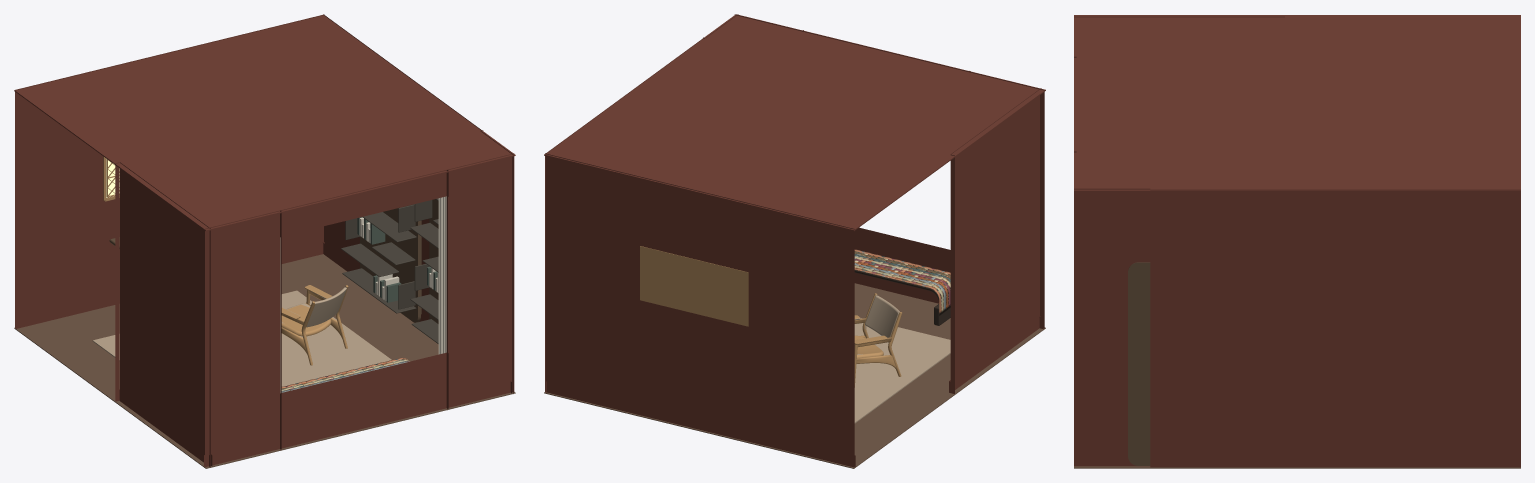
The model's file is formal-2.glb.
3 views of the same model, side by side, from view 1: azimuth 30°, elevation 25°; view 2: azimuth 150°, elevation 25°; view 3: azimuth 270°, elevation 25° (orthographic). The views are drawn at different scales.
Visible parts, largest first — view 1: DESIGN | formal removable wall finish, DESIGN | formal ceiling finish, DESIGN | formal floor finish, DESIGN | Required Blabla bookcase 2, DESIGN | Formal ground, DESIGN | Listening chair two, DESIGN | Required Blabla bookcase 1, DESIGN | Formal soft window edge.001, DESIGN | Required Brera anniversary window bench; view 2: DESIGN | formal removable wall finish, DESIGN | formal ceiling finish, DESIGN | formal floor finish, DESIGN | Quiet artwork frame, DESIGN | Formal ground, DESIGN | Required Brera anniversary window bench, DESIGN | Listening chair one; view 3: DESIGN | formal removable wall finish, DESIGN | formal ceiling finish, DESIGN | Required Blabla bookcase 1, DESIGN | formal floor finish.
Boxes of the visible parts, left/top/right/bottom form: DESIGN | formal removable wall finish: left=15, top=14, right=514, bottom=466; DESIGN | formal ceiling finish: left=14, top=15, right=515, bottom=231; DESIGN | formal floor finish: left=14, top=254, right=515, bottom=468; DESIGN | Required Blabla bookcase 2: left=341, top=204, right=421, bottom=322; DESIGN | Formal ground: left=92, top=290, right=391, bottom=386; DESIGN | Listening chair two: left=281, top=285, right=348, bottom=365; DESIGN | Required Blabla bookcase 1: left=410, top=198, right=438, bottom=343; DESIGN | Formal soft window edge.001: left=438, top=196, right=446, bottom=354; DESIGN | Required Brera anniversary window bench: left=281, top=357, right=409, bottom=392; DESIGN | formal removable wall finish: left=545, top=14, right=1044, bottom=467; DESIGN | formal ceiling finish: left=544, top=14, right=1045, bottom=231; DESIGN | formal floor finish: left=544, top=283, right=1045, bottom=468; DESIGN | Quiet artwork frame: left=640, top=246, right=748, bottom=326; DESIGN | Formal ground: left=854, top=318, right=950, bottom=423; DESIGN | Required Brera anniversary window bench: left=854, top=249, right=950, bottom=325; DESIGN | Listening chair one: left=854, top=293, right=902, bottom=387; DESIGN | formal removable wall finish: left=1074, top=16, right=1520, bottom=467; DESIGN | formal ceiling finish: left=1074, top=15, right=1520, bottom=191; DESIGN | Required Blabla bookcase 1: left=1128, top=262, right=1150, bottom=465; DESIGN | formal floor finish: left=1074, top=466, right=1520, bottom=468.
Size of the model in its own units: 3.71 by 2.74 by 3.98.
